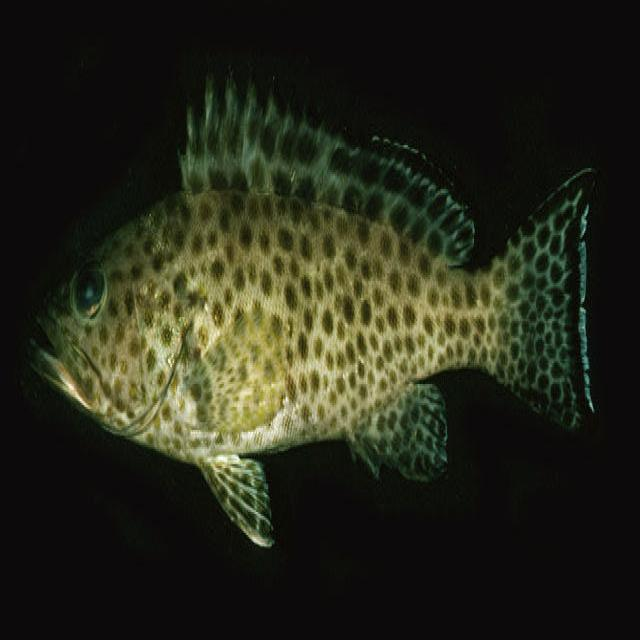ikan: (22, 69, 599, 550)
